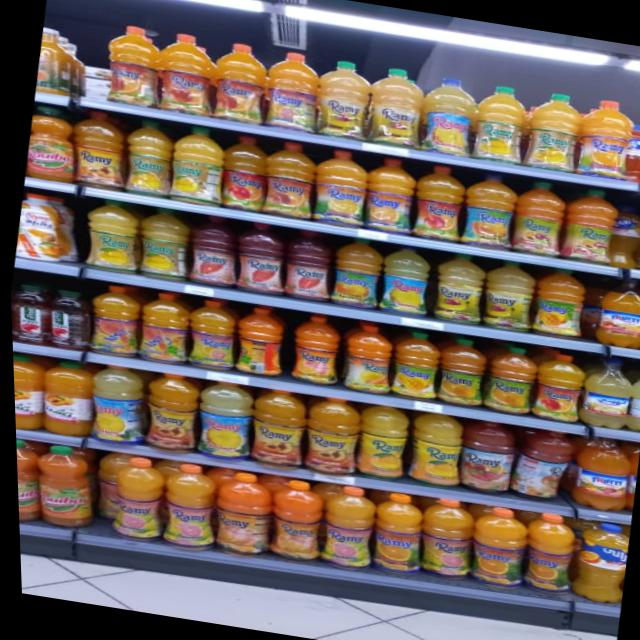ifri_plastique: (39, 288, 94, 354), (8, 281, 55, 345)
ramy_plastique: (149, 459, 220, 554), (24, 442, 98, 532), (201, 468, 271, 562), (149, 30, 223, 118), (99, 452, 169, 545), (459, 503, 529, 592), (570, 94, 640, 182), (186, 378, 256, 466), (257, 476, 325, 566), (78, 362, 148, 449), (134, 369, 202, 458), (408, 496, 476, 584), (560, 516, 627, 605), (512, 508, 578, 598), (310, 483, 376, 573), (309, 56, 378, 142), (361, 64, 430, 150), (241, 386, 309, 473), (99, 23, 167, 109), (64, 107, 132, 193), (294, 394, 362, 480), (413, 74, 482, 158), (361, 489, 426, 578), (519, 89, 587, 174), (206, 40, 273, 126), (164, 122, 230, 209), (258, 49, 325, 134), (466, 82, 532, 166), (564, 433, 633, 513), (399, 409, 466, 491), (555, 185, 621, 268), (306, 146, 372, 229), (448, 418, 516, 498), (347, 402, 411, 486), (455, 170, 520, 252), (257, 138, 320, 222), (406, 162, 469, 245), (507, 426, 574, 504), (116, 116, 178, 200), (212, 132, 274, 216), (358, 154, 421, 236), (570, 356, 635, 434), (505, 178, 568, 258), (78, 197, 143, 274), (131, 289, 194, 368), (131, 206, 195, 282), (82, 282, 144, 360), (12, 192, 80, 263), (526, 348, 587, 426), (335, 320, 396, 398), (179, 296, 239, 374), (476, 258, 538, 333), (478, 342, 539, 418), (426, 250, 487, 326), (228, 220, 288, 297), (182, 213, 242, 289), (277, 228, 337, 304), (227, 302, 286, 379), (526, 265, 587, 339), (284, 312, 343, 388), (325, 236, 385, 310), (385, 328, 444, 403), (374, 244, 433, 318), (430, 336, 489, 409), (590, 274, 640, 350), (13, 434, 46, 524), (578, 104, 594, 119)
rouiba_plastique: (22, 104, 81, 185)
tchina_plastique: (33, 356, 100, 439), (10, 351, 49, 431)
